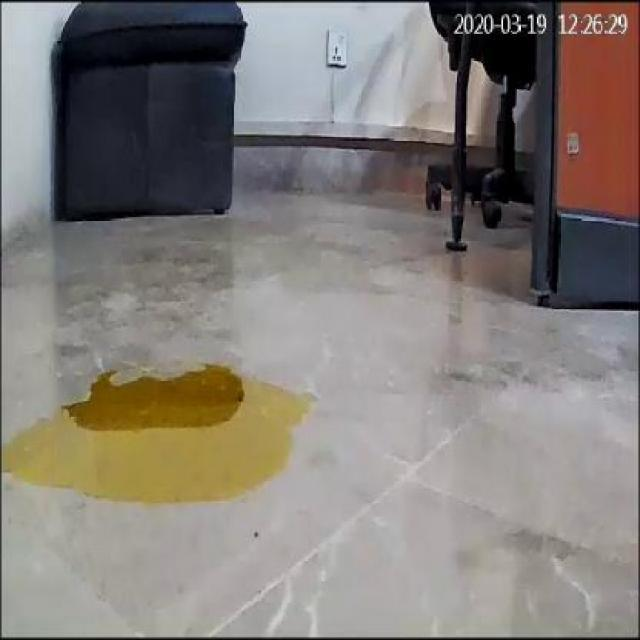spill: (1, 370, 321, 502)
